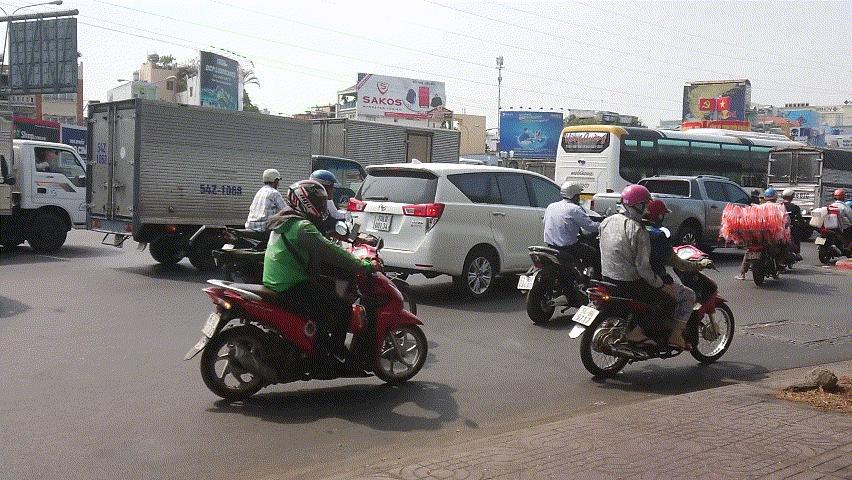driver: (184, 178, 429, 401), (568, 184, 734, 378), (515, 180, 612, 324), (718, 187, 792, 286), (809, 190, 852, 264)
helmet: (286, 179, 331, 223), (620, 184, 655, 219), (645, 199, 673, 229), (559, 181, 585, 205), (262, 168, 284, 189), (764, 188, 778, 203), (781, 188, 795, 202), (833, 190, 845, 201)
